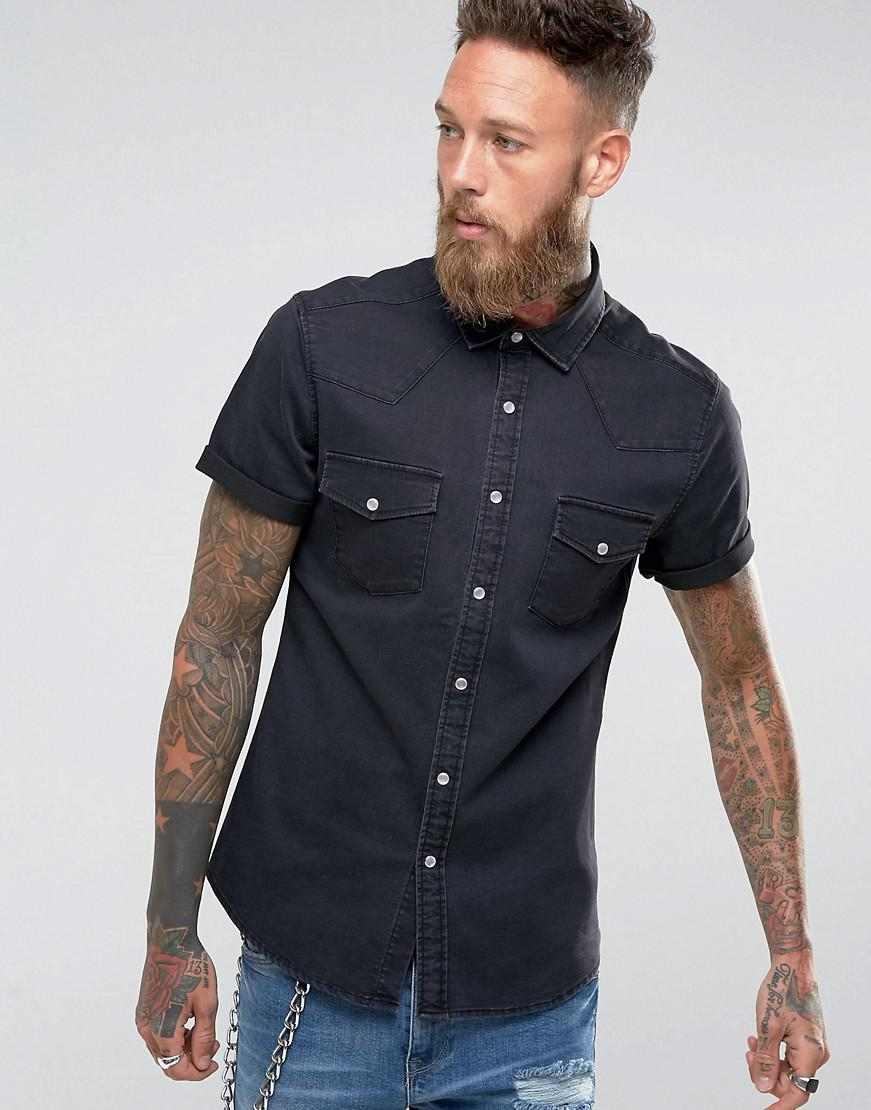teeshirt: (188, 230, 791, 1047)
